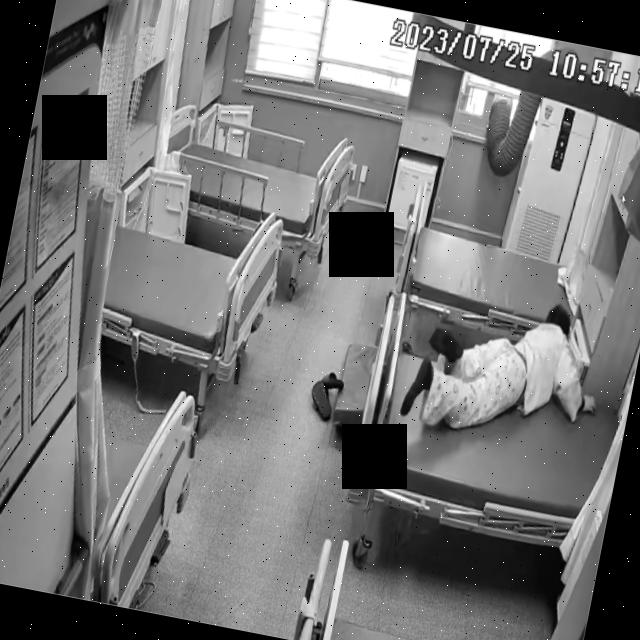bed: (342, 286, 632, 554), (388, 170, 600, 358), (96, 188, 290, 382), (168, 114, 354, 258)
danger: (396, 278, 613, 472)
patient: (394, 277, 614, 477)
